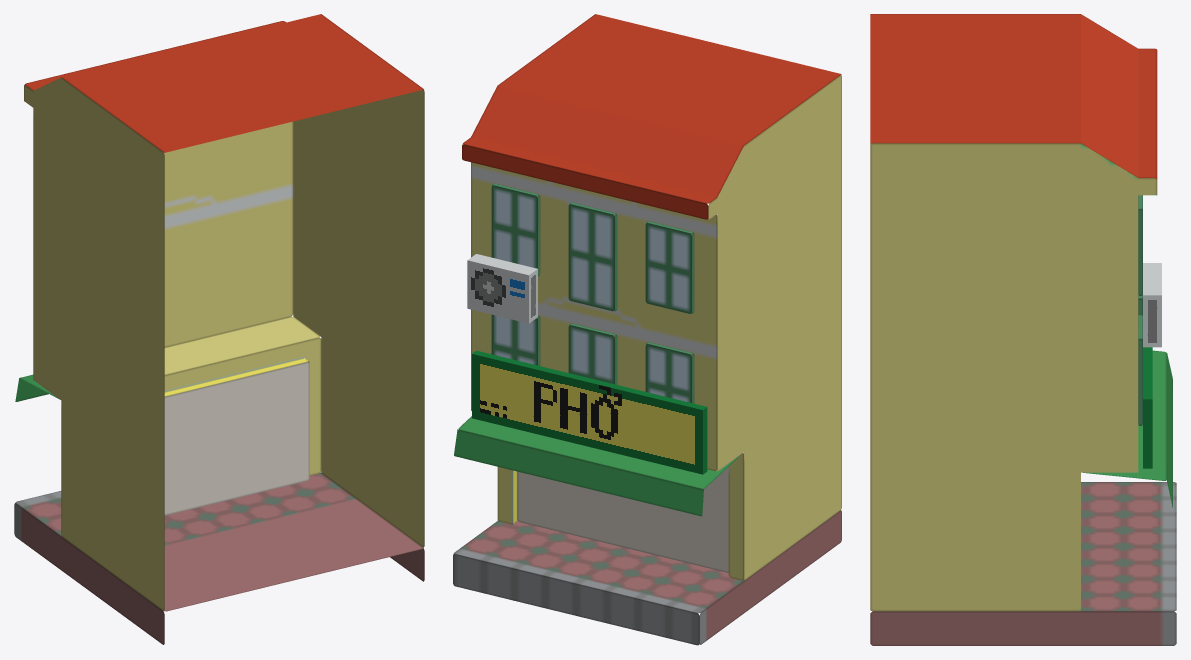
The model's file is House 1.fbx.
The picture shows the model from 3 angles, left to right: view 1: azimuth 30°, elevation 25°; view 2: azimuth 150°, elevation 25°; view 3: azimuth 270°, elevation 25°; orthographic projection. The views are drawn at different scales.
Parts seen in each view (by area): view 1: House 1, SideRoad, plane; view 2: House 1, SideRoad, Banner, plane, cuboid_5, cuboid_1, AC, cuboid_3, cuboid_4, cuboid, cuboid_2; view 3: House 1, SideRoad, plane, AC, Banner, cuboid_2, cuboid_3.
Part boxes in pixels (box(x1,y1,x2,y2)): House 1: box(24, 14, 424, 610); SideRoad: box(14, 472, 424, 644); plane: box(15, 374, 59, 401); House 1: box(462, 14, 841, 580); SideRoad: box(453, 510, 841, 645); Banner: box(472, 350, 707, 474); plane: box(454, 416, 742, 516); cuboid_5: box(568, 202, 617, 311); cuboid_1: box(645, 221, 694, 313); AC: box(467, 254, 537, 323); cuboid_3: box(491, 183, 540, 276); cuboid_4: box(568, 323, 617, 384); cuboid: box(645, 342, 694, 403); cuboid_2: box(491, 314, 540, 365); House 1: box(870, 14, 1157, 611); SideRoad: box(870, 482, 1176, 645); plane: box(1083, 350, 1172, 507); AC: box(1143, 263, 1161, 347); Banner: box(1143, 347, 1152, 468); cuboid_2: box(1138, 315, 1142, 425); cuboid_3: box(1138, 195, 1142, 295).
Bounding box in the file's own units: 202 × 362 × 200.
Materials: 4 (4 with a texture image).
